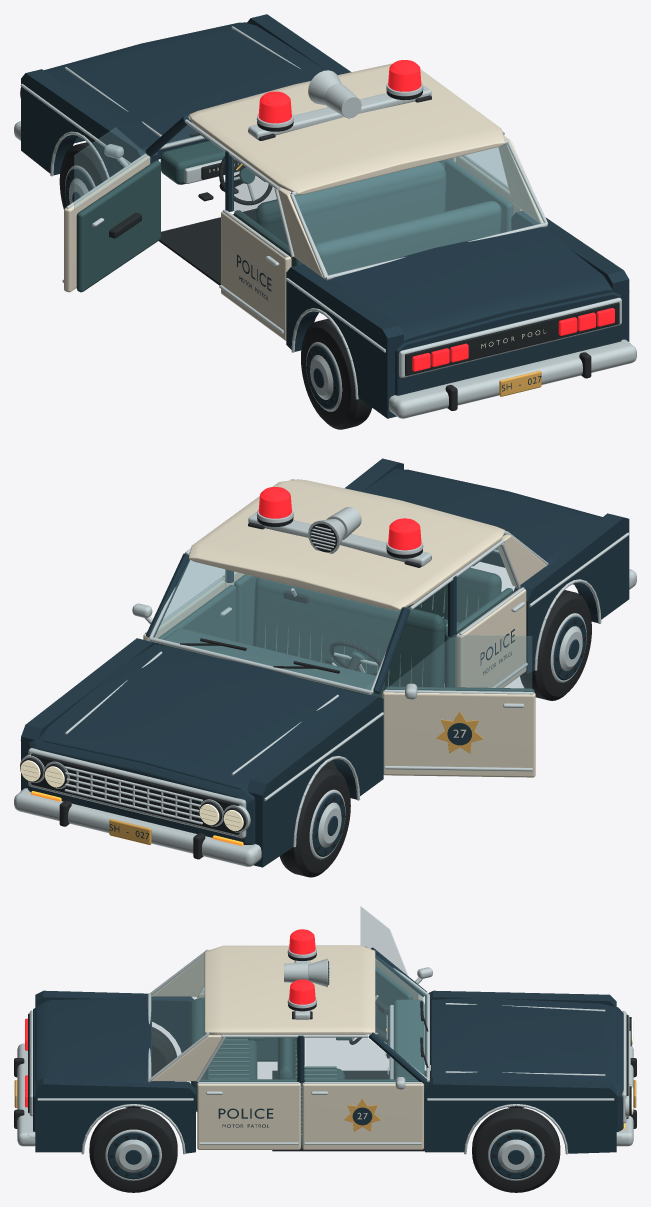
File: PatrolCruiserDoorOpen.fbx
3 renders of one model, top to bottom at view 1: azimuth 30°, elevation 25°; view 2: azimuth 150°, elevation 25°; view 3: azimuth 270°, elevation 25°, orthographic. The views are drawn at different scales.
Visible parts, largest first — view 1: PatrolCruiserDoorOpen; view 2: PatrolCruiserDoorOpen; view 3: PatrolCruiserDoorOpen.
Boxes of the visible parts, <box> form: PatrolCruiserDoorOpen: <box>14,14,636,429</box>; PatrolCruiserDoorOpen: <box>14,458,636,877</box>; PatrolCruiserDoorOpen: <box>14,906,636,1192</box>.
Size of the model in its own units: 331 by 201 by 593.
